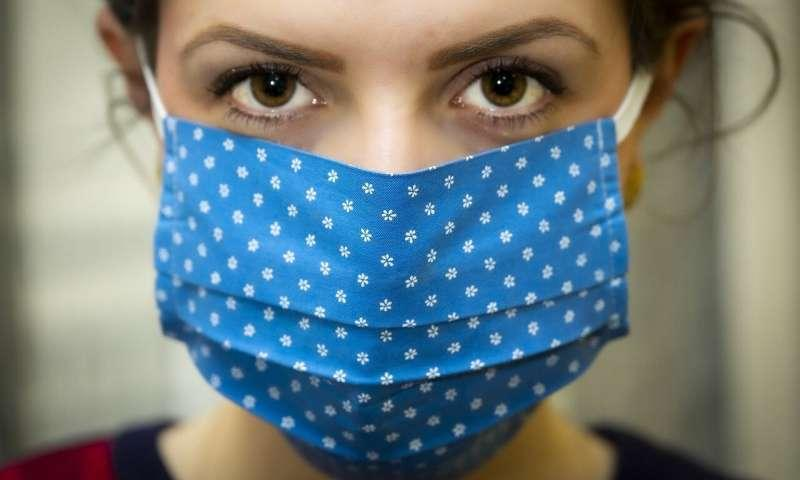Wearing Mask: (102, 0, 705, 480)
